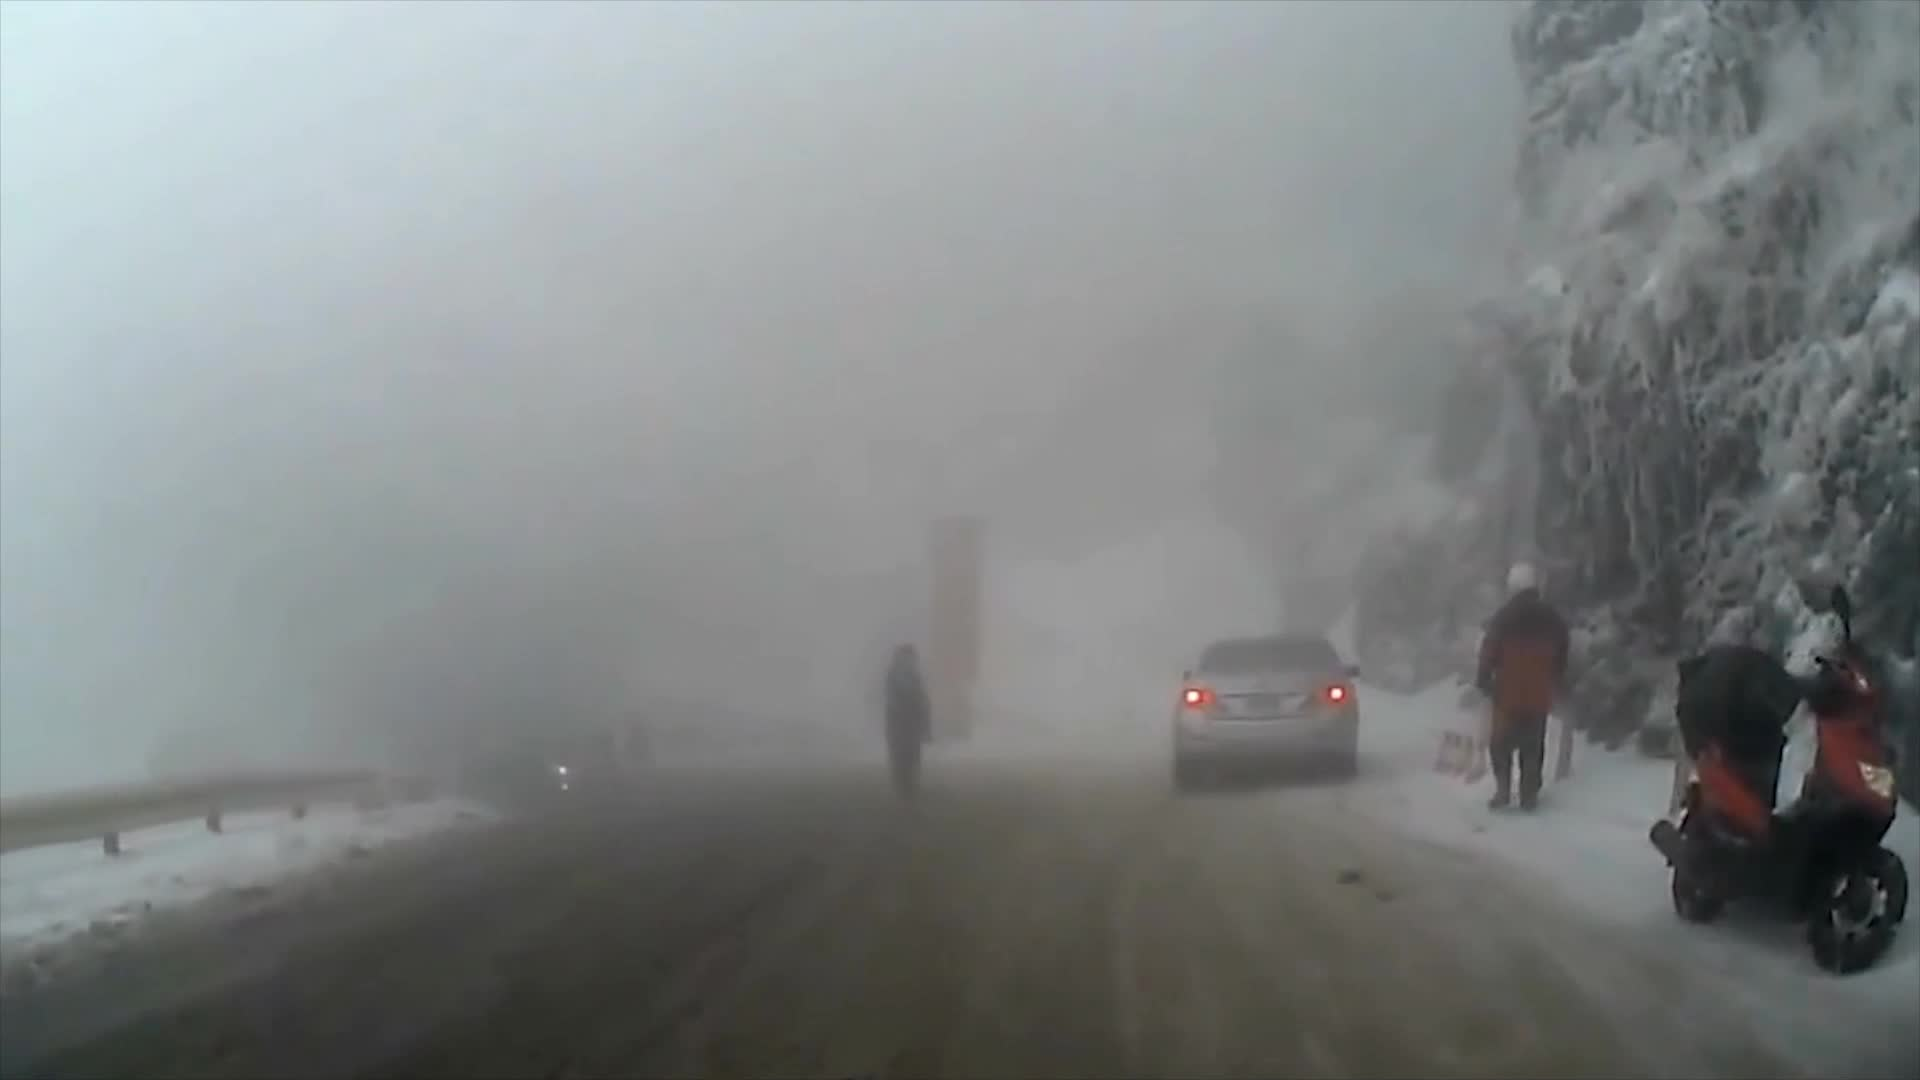pedestrian: (1475, 562, 1581, 816), (879, 643, 931, 809)
vehicle: (1171, 634, 1364, 793)
